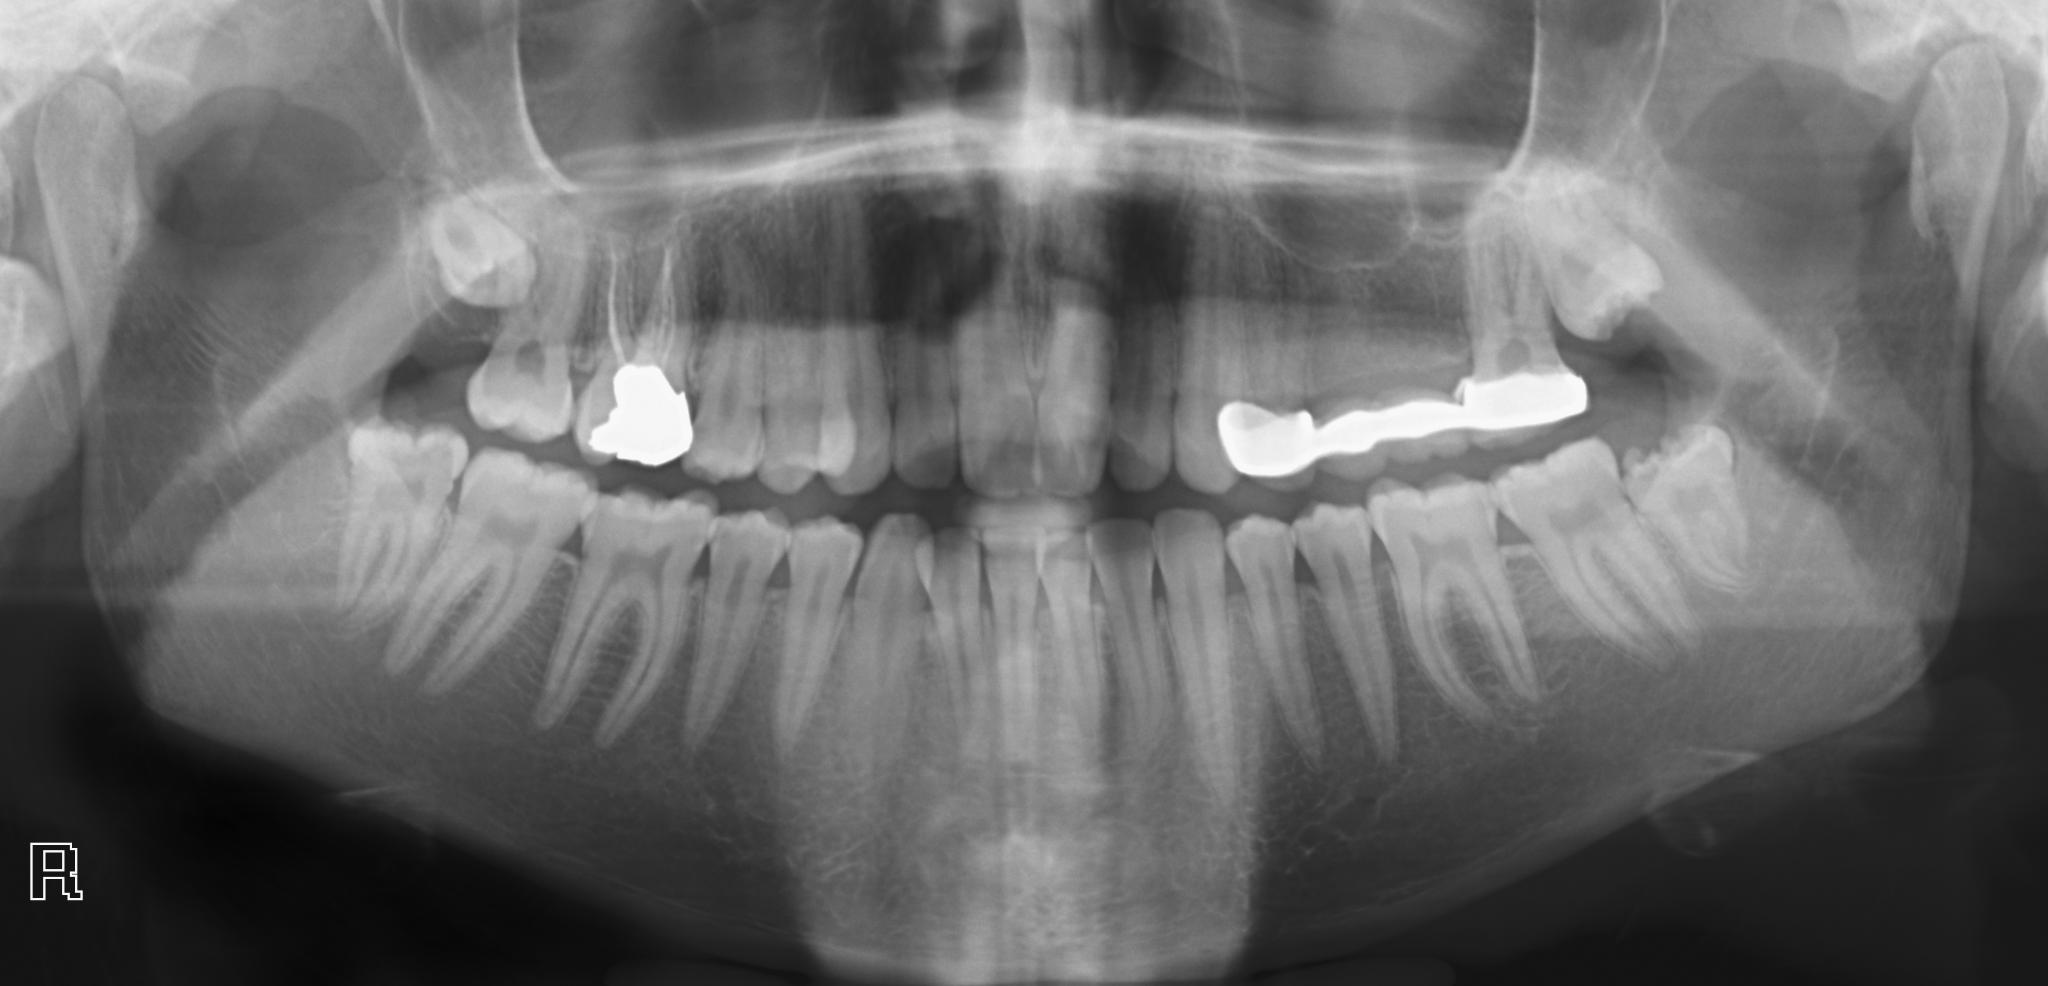Fillings: (1447, 238, 1595, 439), (1216, 302, 1318, 488)
Implant: (569, 219, 701, 471)
